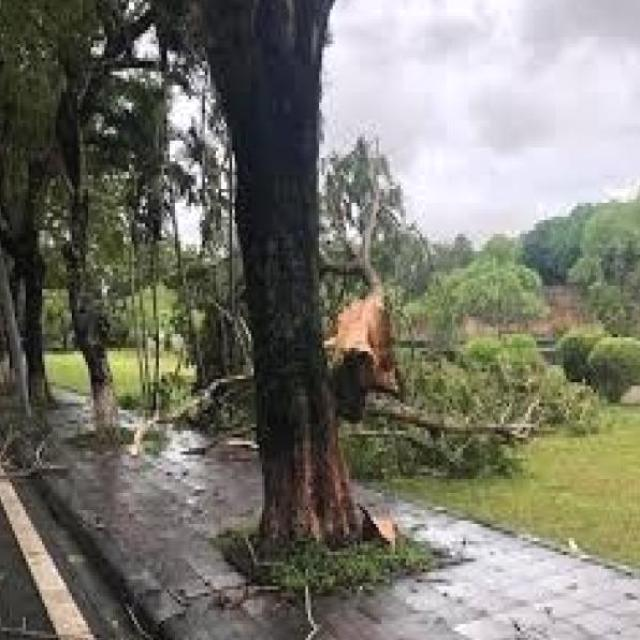fallen_object: (150, 170, 600, 488)
